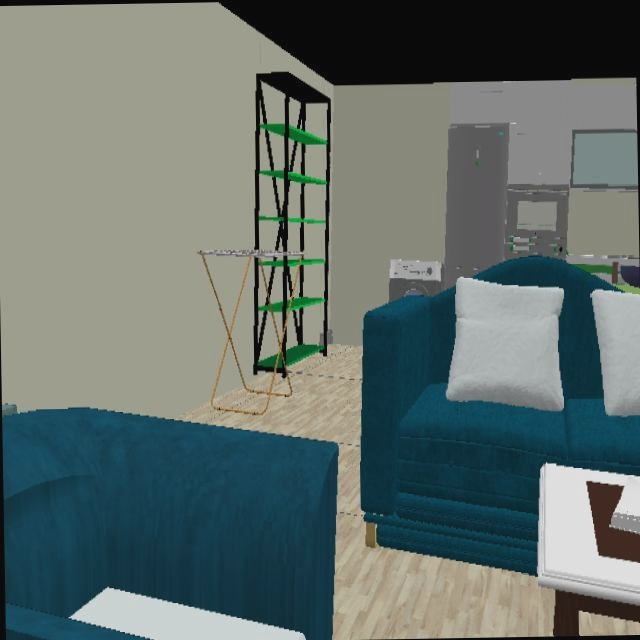book: (610, 475, 640, 533)
cabinet: (451, 83, 637, 187)
countertop: (566, 257, 638, 274)
fridge: (444, 125, 507, 288)
microwave: (506, 189, 567, 259)
pillow: (447, 277, 564, 410), (591, 290, 640, 416)
shelf: (252, 73, 330, 373)
sofa: (360, 256, 640, 573), (2, 408, 338, 640)
table: (538, 464, 640, 635)
